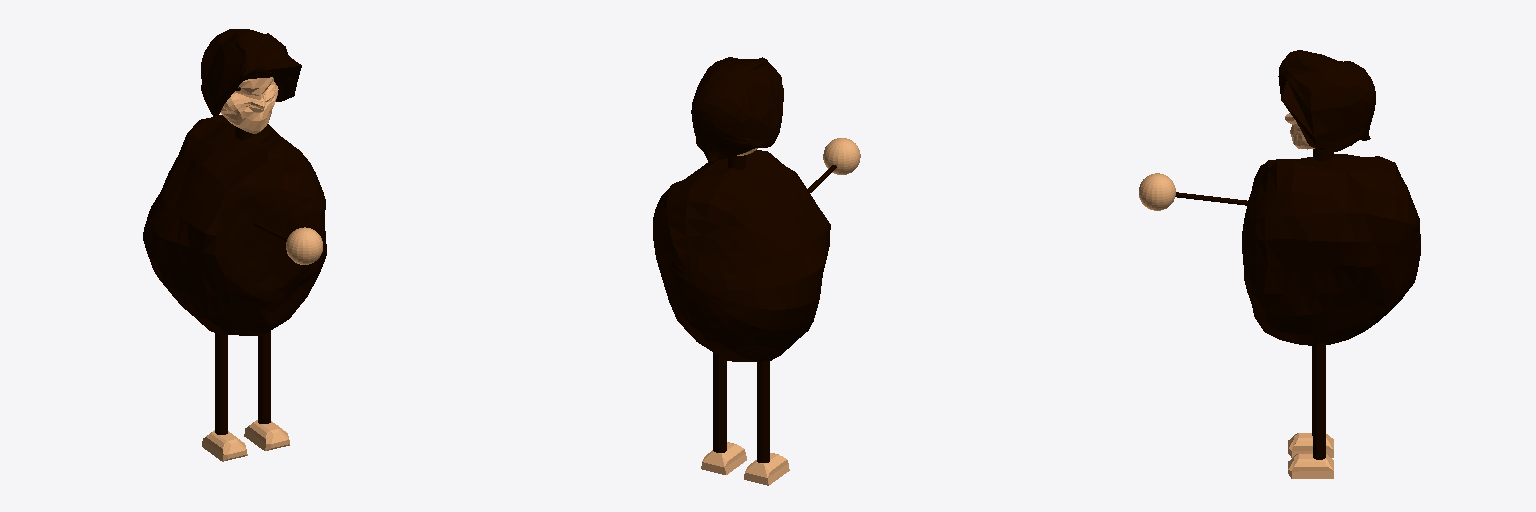
File: person4.obj
3 views of the same model, side by side, from view 1: azimuth 30°, elevation 25°; view 2: azimuth 150°, elevation 25°; view 3: azimuth 270°, elevation 25° (orthographic).
Visible parts, largest first — view 1: pasted__pSphere7; view 2: pasted__pSphere7; view 3: pasted__pSphere7.
Part boxes in pixels (x1,y1,x2,y2): pasted__pSphere7: (143, 29, 326, 461); pasted__pSphere7: (653, 57, 860, 485); pasted__pSphere7: (1139, 50, 1420, 478).
Size of the model in its own units: 11.76 by 30.91 by 19.47.